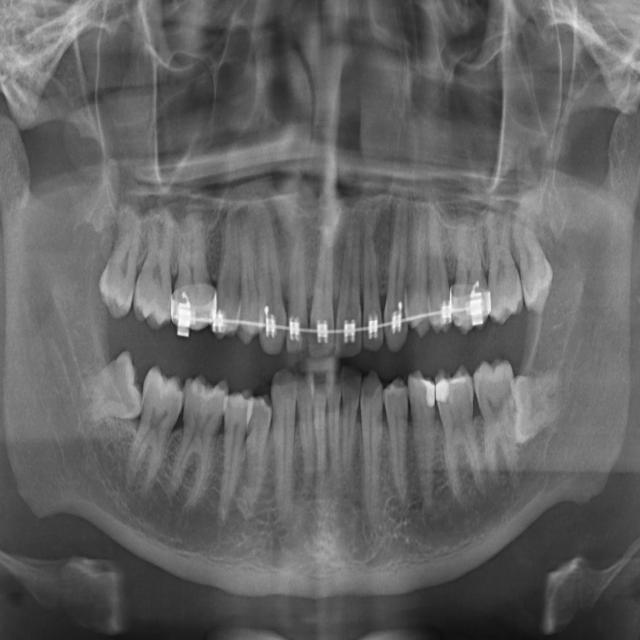CompositeResinRestoration: (434, 372, 454, 427), (422, 375, 434, 419)
ImpactedTooth: (513, 372, 588, 453), (84, 347, 144, 428)
